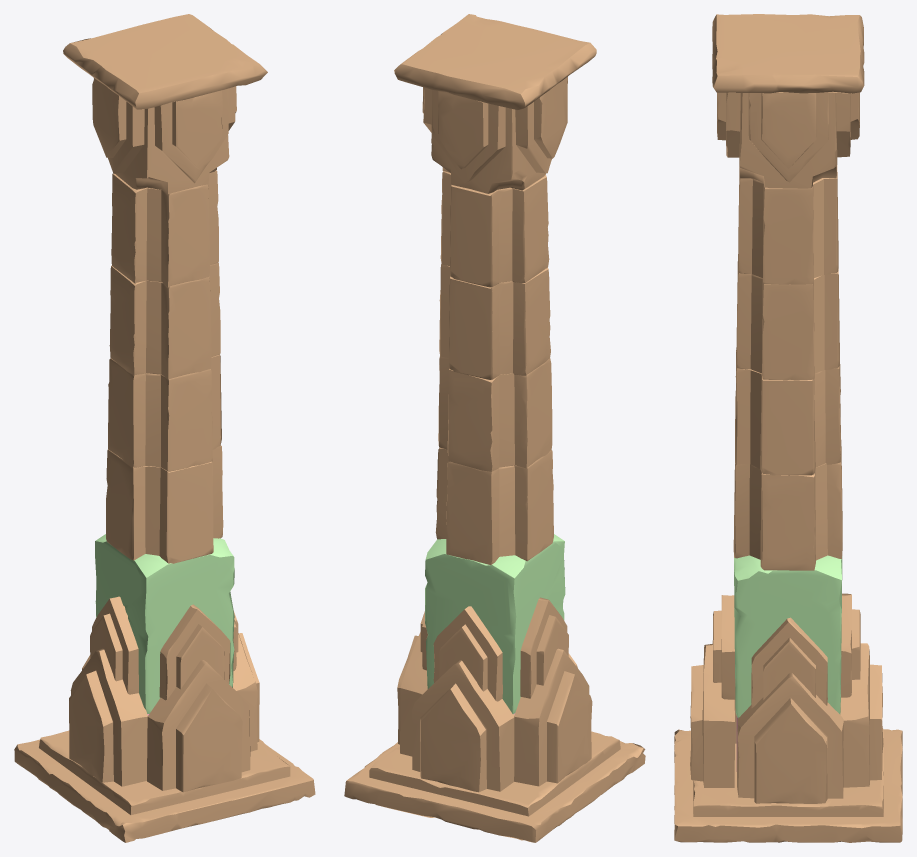
File: Column_base_07.fbx
The picture shows the model from 3 angles, left to right: view 1: azimuth 30°, elevation 25°; view 2: azimuth 150°, elevation 25°; view 3: azimuth 270°, elevation 25°; orthographic projection. The views are drawn at different scales.
Visible parts, largest first — view 1: Column_base_07_LOD0; view 2: Column_base_07_LOD0; view 3: Column_base_07_LOD0.
Part boxes in pixels (x1=…): Column_base_07_LOD0: x1=14, y1=14, x2=315, y2=842; Column_base_07_LOD0: x1=344, y1=14, x2=645, y2=842; Column_base_07_LOD0: x1=674, y1=14, x2=902, y2=842.
Size of what is drawn, in the model's own units: 269 by 974 by 268.
